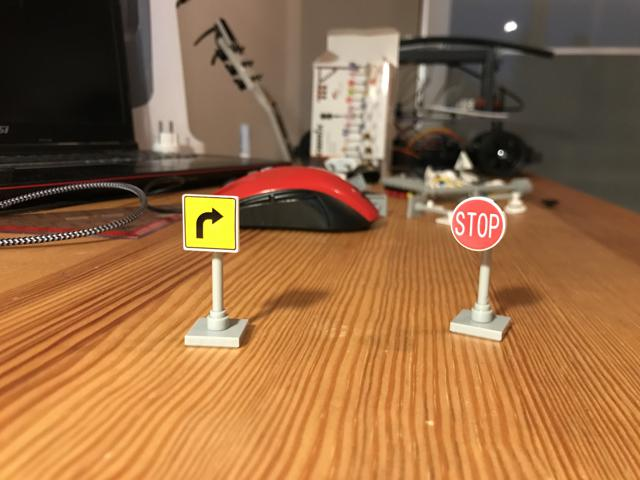fahrtrichtung rechts: (181, 193, 241, 253)
stop: (451, 197, 508, 252)
